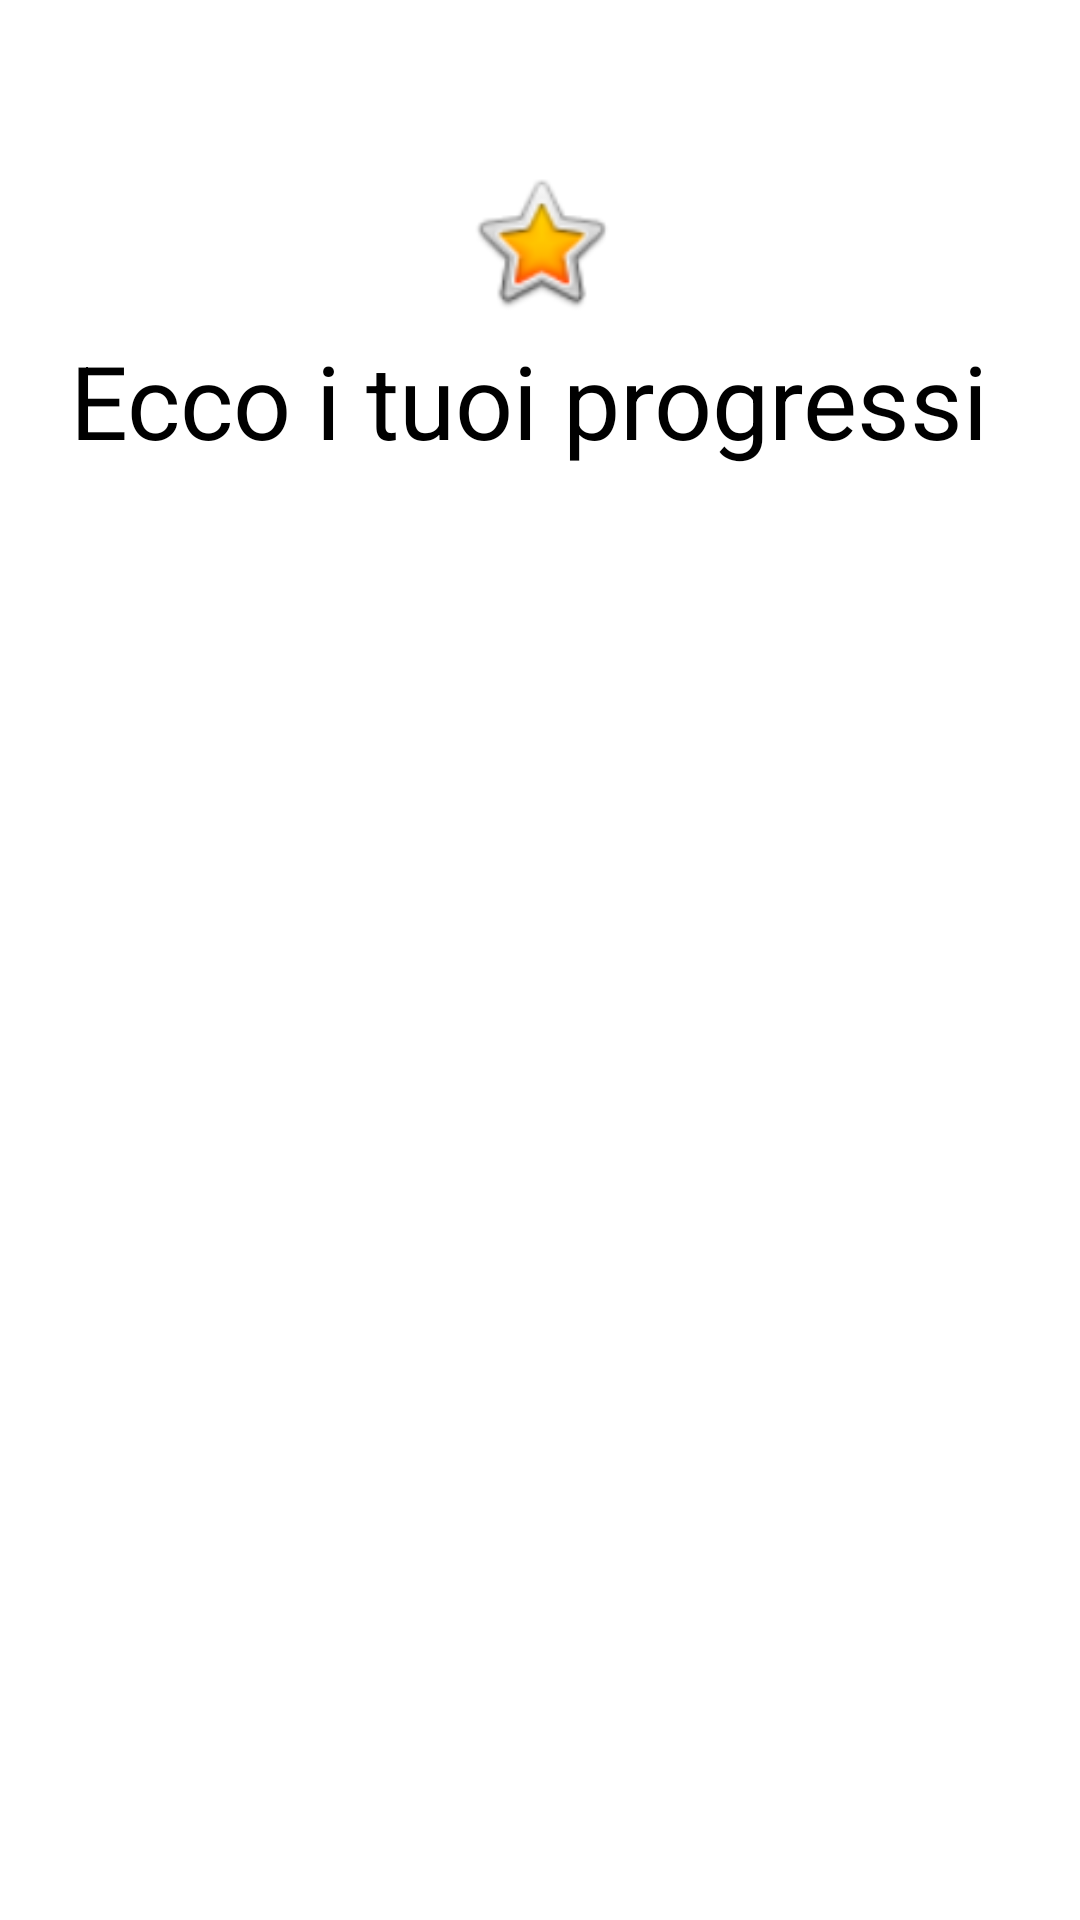

Icons on this 1080px×1920px Android screen, each with its box as (x1, y1, x2, y2):
star on: (478, 181, 606, 306)
